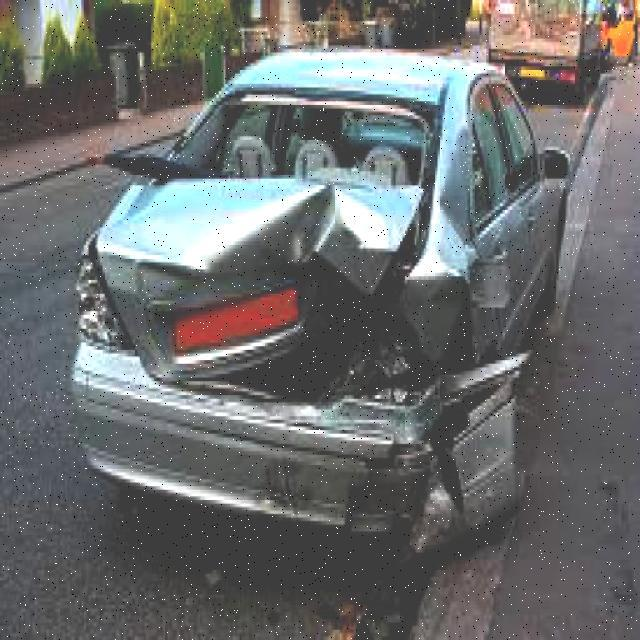car damage: (75, 132, 531, 562)
